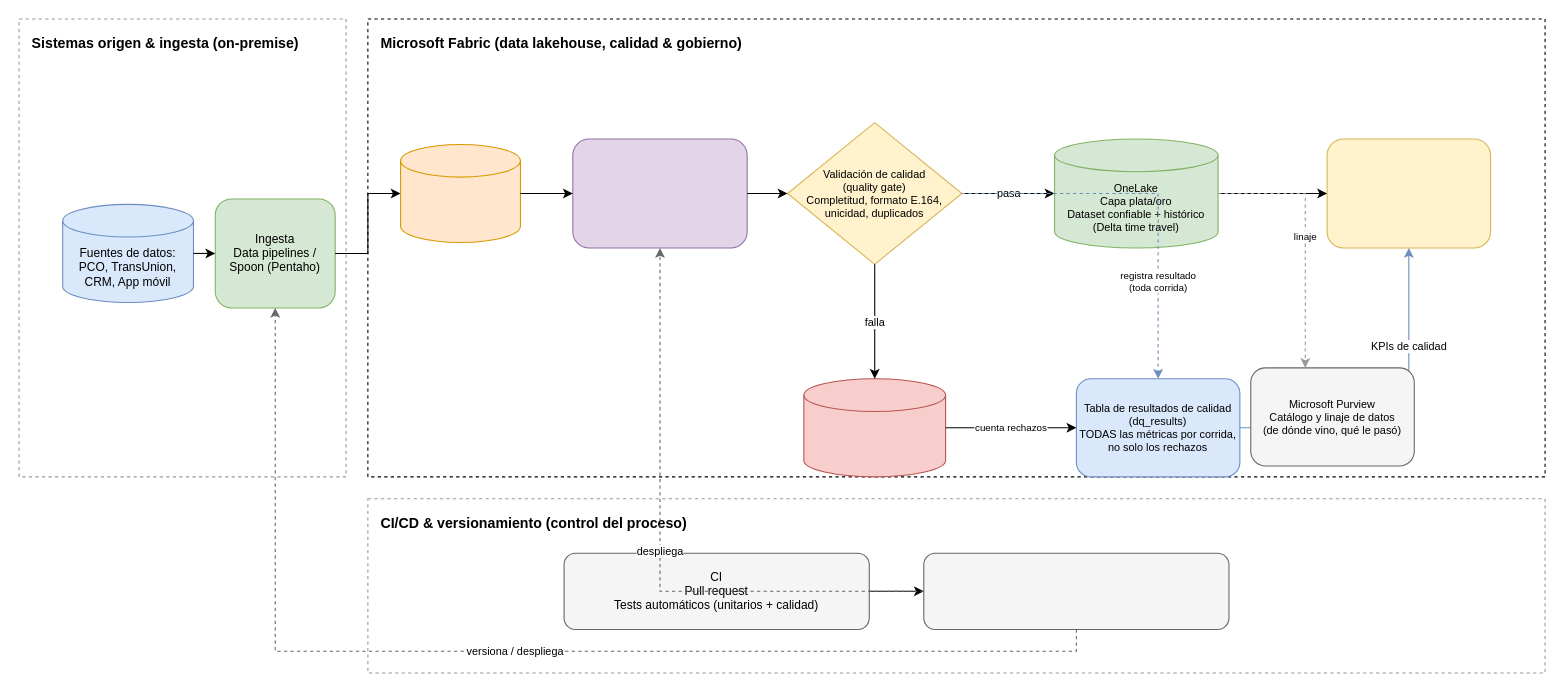
Some shapes in this 1564 by 692 pixel diagram are drawn without their labels. Here are the shapes that lost their labels. From the top down, the centre of each, then its label:
(459,193): OneLake Capa bronce Datos crudos
(659,193): Fabric Data Engineering (Notebooks / Spark) Limpieza y estandarización
(1408,193): Power BI (DirectLake) Dashboard de veeduría y KPIs de calidad
(874,427): Dead Letter Queue (teléfonos inválidos)
(1076,590): CD Despliegue controlado Dev → Staging → Prod (Fabric Deployment Pipelines)
